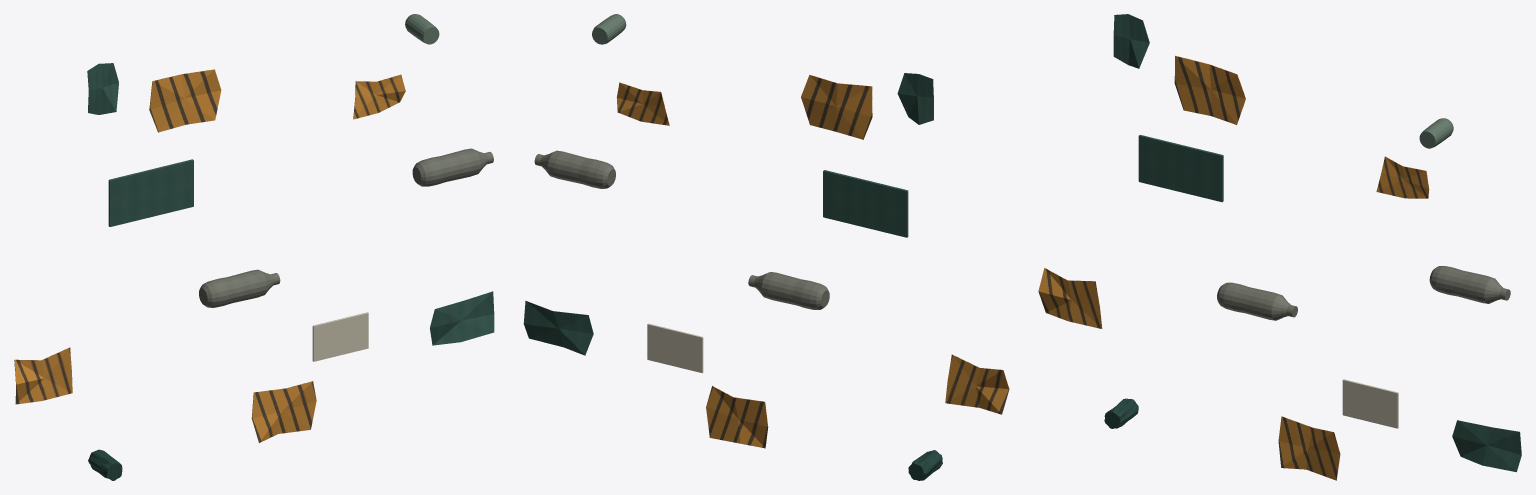
The model's file is PZ_DST_07_Scattered_Litter_Collection.glb.
3 renders of one model, left to right at view 1: azimuth 30°, elevation 25°; view 2: azimuth 150°, elevation 25°; view 3: azimuth 330°, elevation 25°, orthographic.
Visible parts, largest first — view 1: SCATTER_CardboardScrap_01, SCATTER_PaperScrap_02, SCATTER_PaperScrap_06, SCATTER_PaperScrap_04, SCATTER_PaperScrap_01, SCATTER_TornWrapper_01, SCATTER_Bottle_02, SCATTER_Bottle_01, SCATTER_PaperScrap_03, SCATTER_PaperScrap_05, SCATTER_Can_01, SCATTER_Can_02; view 2: SCATTER_CardboardScrap_01, SCATTER_PaperScrap_02, SCATTER_PaperScrap_06, SCATTER_PaperScrap_01, SCATTER_PaperScrap_04, SCATTER_TornWrapper_01, SCATTER_Bottle_01, SCATTER_Bottle_02, SCATTER_PaperScrap_03, SCATTER_PaperScrap_05, SCATTER_Can_01, SCATTER_Can_02; view 3: SCATTER_CardboardScrap_01, SCATTER_PaperScrap_02, SCATTER_PaperScrap_06, SCATTER_PaperScrap_04, SCATTER_PaperScrap_01, SCATTER_TornWrapper_01, SCATTER_Bottle_01, SCATTER_Bottle_02, SCATTER_PaperScrap_05, SCATTER_PaperScrap_03, SCATTER_Can_02, SCATTER_Can_01.
Boxes of the visible parts, left/top/right/bottom form: SCATTER_CardboardScrap_01: left=108, top=159, right=193, bottom=226; SCATTER_PaperScrap_02: left=149, top=69, right=221, bottom=132; SCATTER_PaperScrap_06: left=251, top=381, right=316, bottom=442; SCATTER_PaperScrap_04: left=430, top=291, right=494, bottom=345; SCATTER_PaperScrap_01: left=14, top=347, right=72, bottom=404; SCATTER_TornWrapper_01: left=312, top=312, right=368, bottom=361; SCATTER_Bottle_02: left=199, top=269, right=280, bottom=307; SCATTER_Bottle_01: left=412, top=148, right=493, bottom=186; SCATTER_PaperScrap_03: left=353, top=74, right=405, bottom=119; SCATTER_PaperScrap_05: left=87, top=63, right=118, bottom=114; SCATTER_Can_01: left=88, top=449, right=122, bottom=480; SCATTER_Can_02: left=405, top=14, right=439, bottom=44; SCATTER_CardboardScrap_01: left=823, top=170, right=908, bottom=237; SCATTER_PaperScrap_02: left=801, top=74, right=872, bottom=139; SCATTER_PaperScrap_06: left=706, top=386, right=768, bottom=448; SCATTER_PaperScrap_01: left=945, top=354, right=1009, bottom=414; SCATTER_PaperScrap_04: left=523, top=300, right=593, bottom=355; SCATTER_TornWrapper_01: left=647, top=323, right=703, bottom=373; SCATTER_Bottle_01: left=534, top=150, right=615, bottom=188; SCATTER_Bottle_02: left=748, top=272, right=829, bottom=309; SCATTER_PaperScrap_03: left=616, top=82, right=669, bottom=125; SCATTER_PaperScrap_05: left=897, top=73, right=933, bottom=124; SCATTER_Can_01: left=908, top=450, right=942, bottom=480; SCATTER_Can_02: left=592, top=14, right=626, bottom=44; SCATTER_CardboardScrap_01: left=1138, top=135, right=1223, bottom=202; SCATTER_PaperScrap_02: left=1174, top=55, right=1245, bottom=124; SCATTER_PaperScrap_06: left=1278, top=416, right=1340, bottom=480; SCATTER_PaperScrap_04: left=1452, top=420, right=1521, bottom=472; SCATTER_PaperScrap_01: left=1038, top=268, right=1102, bottom=328; SCATTER_TornWrapper_01: left=1342, top=379, right=1398, bottom=428; SCATTER_Bottle_01: left=1429, top=266, right=1510, bottom=303; SCATTER_Bottle_02: left=1217, top=282, right=1297, bottom=320; SCATTER_PaperScrap_05: left=1113, top=14, right=1149, bottom=68; SCATTER_PaperScrap_03: left=1376, top=156, right=1429, bottom=198; SCATTER_Can_02: left=1419, top=118, right=1453, bottom=148; SCATTER_Can_01: left=1104, top=398, right=1138, bottom=428.
Size of the model in its own units: 1.83 by 1.51 by 0.121.
1 material, 1 textured.
